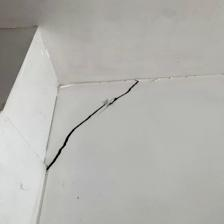High: (42, 75, 143, 207)
